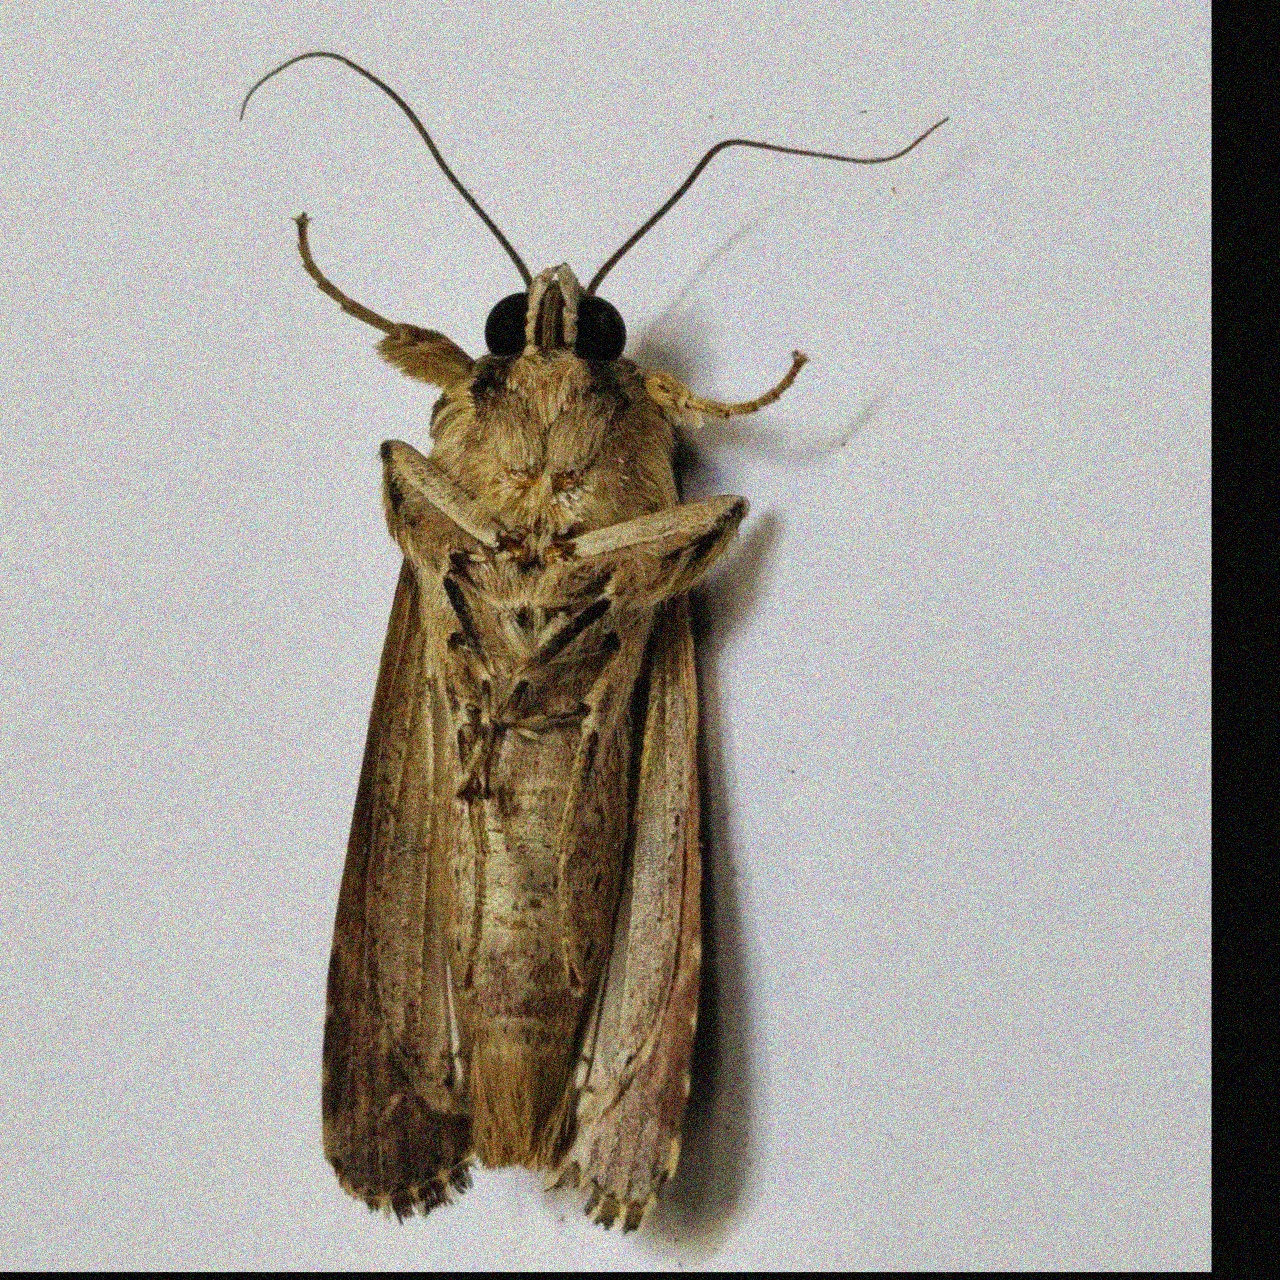Spodoptera litura: (239, 52, 949, 1235)
